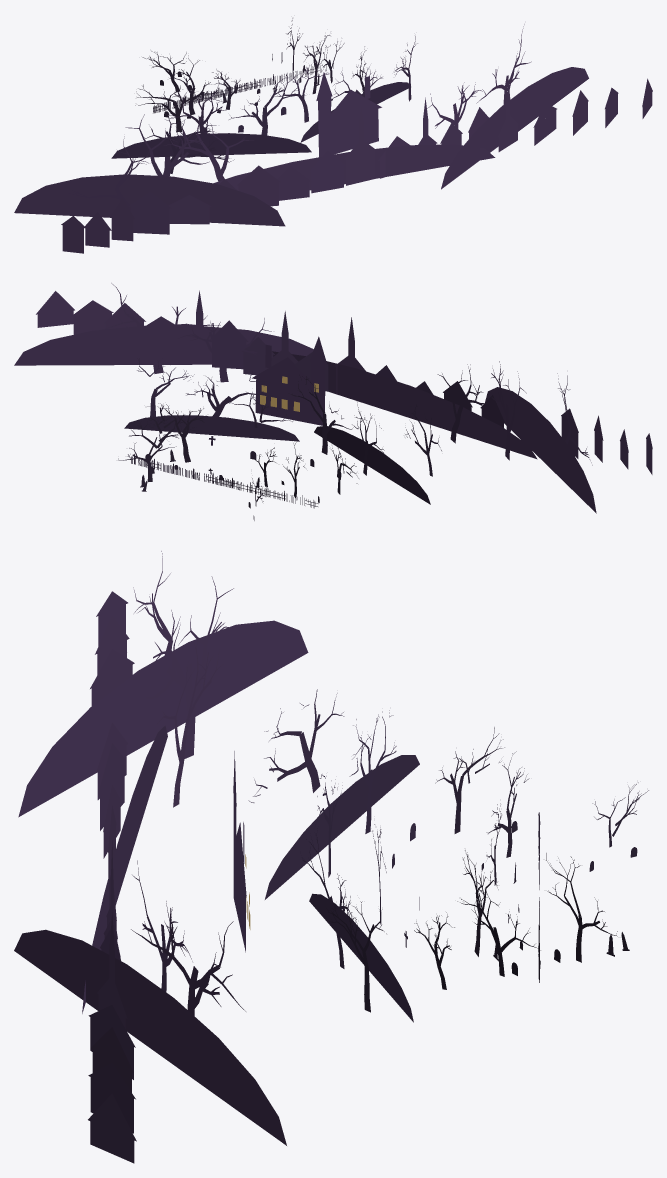
File: Env_Silhouettes.fbx
The picture shows the model from 3 angles, top to bottom: view 1: azimuth 30°, elevation 25°; view 2: azimuth 150°, elevation 25°; view 3: azimuth 270°, elevation 25°; orthographic projection. The views are drawn at different scales.
Parts seen in each view (by area): view 1: Sil_Far, Sil_Mid, Sil_Near; view 2: Sil_Far, Sil_Mid, Sil_Near, Windows; view 3: Sil_Far, Sil_Mid, Sil_Near.
Part boxes in pixels (bbox=[...]): Sil_Far: bbox=[14, 24, 652, 253]; Sil_Mid: bbox=[111, 36, 417, 173]; Sil_Near: bbox=[135, 18, 366, 132]; Sil_Far: bbox=[14, 283, 652, 513]; Sil_Mid: bbox=[124, 358, 441, 504]; Sil_Near: bbox=[118, 401, 358, 520]; Windows: bbox=[260, 376, 318, 411]; Sil_Far: bbox=[14, 551, 308, 1163]; Sil_Mid: bbox=[248, 689, 419, 1022]; Sil_Near: bbox=[414, 727, 648, 989].
Size of the model in its own units: 95.39 by 14.55 by 49.98.
